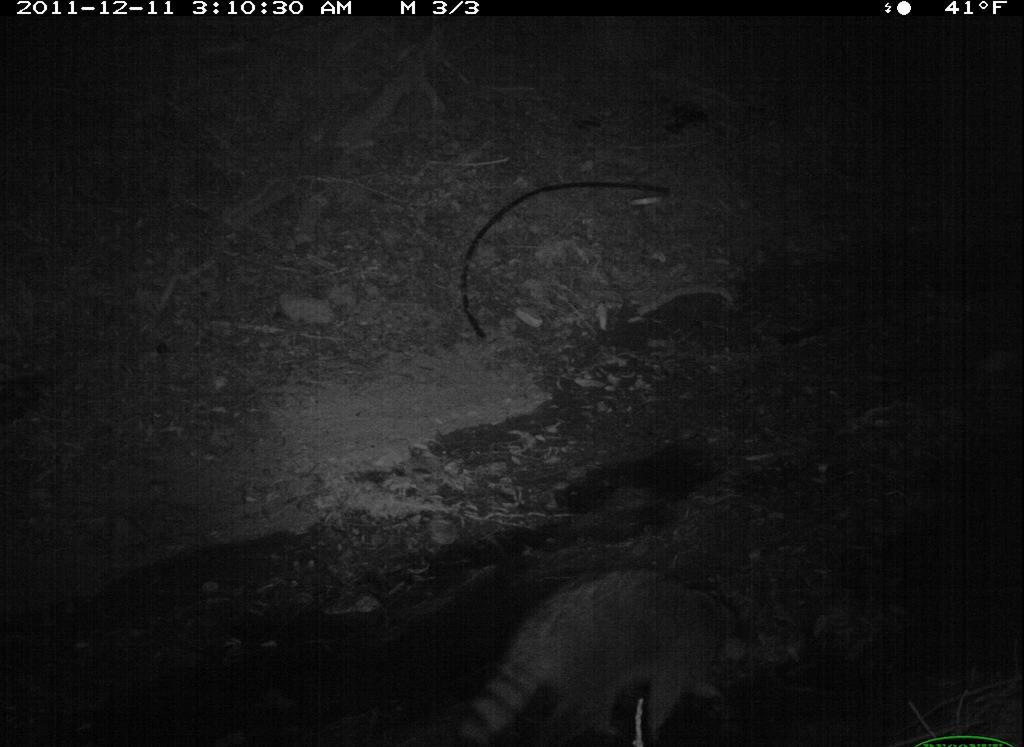raccoon: (449, 562, 790, 747)
